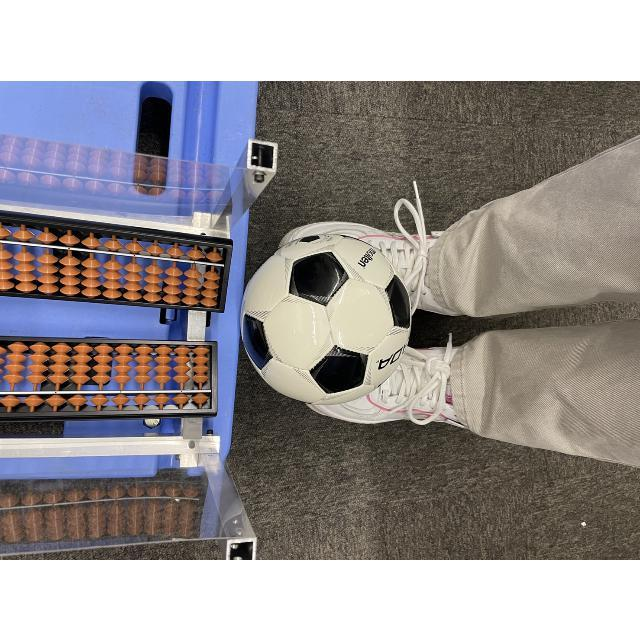ball: (238, 235, 408, 403)
